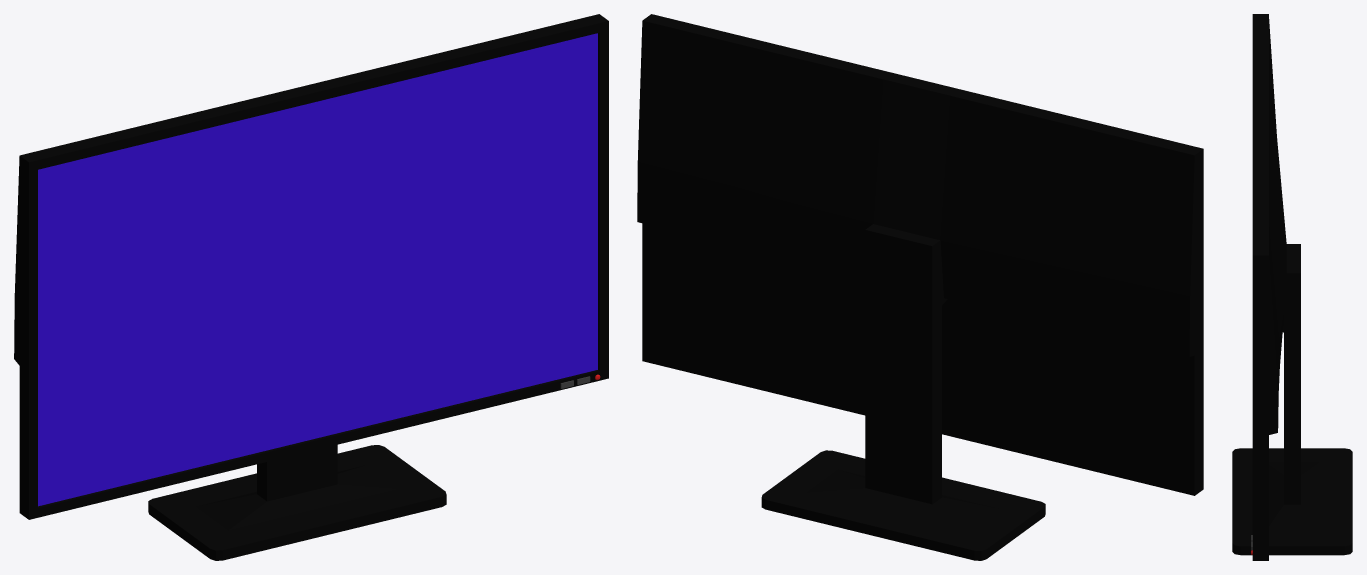
File: MonitorD10.fbx
3 renders of one model, left to right at view 1: azimuth 30°, elevation 25°; view 2: azimuth 150°, elevation 25°; view 3: azimuth 270°, elevation 25°, orthographic. The views are drawn at different scales.
Visible parts, largest first — view 1: Cube; view 2: Cube; view 3: Cube.
Part boxes in pixels (left/top/right/bottom): Cube: left=14, top=14, right=608, bottom=560; Cube: left=637, top=14, right=1203, bottom=560; Cube: left=1232, top=14, right=1352, bottom=560.
Size of the model in its own units: 183 by 131 by 38.48.
